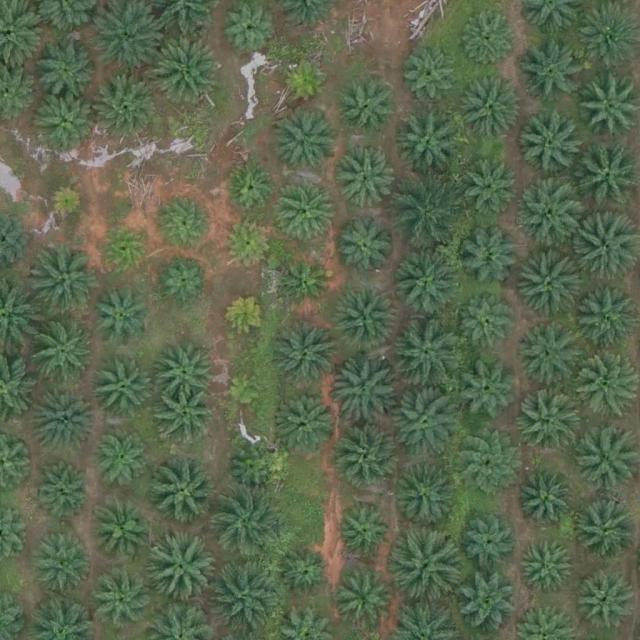Healthy: (271, 318, 342, 389), (144, 535, 215, 606), (515, 180, 586, 251), (392, 106, 463, 177), (568, 350, 638, 421), (394, 316, 464, 387), (392, 390, 462, 461), (332, 359, 403, 429), (215, 487, 285, 558), (213, 563, 283, 634), (149, 456, 219, 527), (515, 257, 585, 328), (151, 38, 221, 109), (90, 73, 160, 144), (392, 527, 462, 597), (393, 183, 463, 253), (95, 4, 165, 74), (29, 245, 99, 315), (454, 573, 517, 636), (395, 465, 458, 528), (279, 391, 342, 454), (154, 341, 217, 404), (92, 359, 155, 422), (92, 499, 155, 562), (522, 39, 585, 102), (459, 225, 522, 288), (332, 220, 395, 283), (272, 181, 335, 244), (37, 39, 100, 102), (37, 92, 100, 155), (575, 431, 638, 493), (519, 328, 581, 391), (455, 291, 518, 353), (333, 288, 395, 351), (341, 428, 403, 491), (88, 286, 150, 349), (94, 572, 156, 635), (34, 321, 96, 384), (32, 529, 94, 592), (578, 283, 640, 346), (337, 74, 399, 137), (337, 143, 399, 206), (273, 113, 335, 176), (577, 504, 639, 566), (522, 391, 584, 453), (31, 393, 93, 455), (518, 111, 580, 173), (398, 252, 460, 314), (462, 154, 524, 216), (461, 76, 523, 138), (579, 573, 634, 628), (519, 470, 574, 525), (519, 541, 574, 596), (464, 515, 519, 570), (460, 443, 515, 498), (459, 362, 514, 417), (338, 507, 393, 562), (228, 444, 283, 499), (160, 391, 215, 446), (94, 435, 149, 490), (35, 463, 90, 518), (97, 222, 152, 277), (159, 196, 214, 251), (159, 253, 214, 308), (221, 216, 276, 271), (226, 160, 281, 215), (402, 48, 457, 103), (461, 8, 516, 63), (278, 253, 333, 308), (341, 579, 395, 634), (278, 549, 332, 604)
Yellow: (279, 53, 334, 108), (224, 292, 271, 339), (227, 372, 266, 412), (45, 185, 85, 224)
